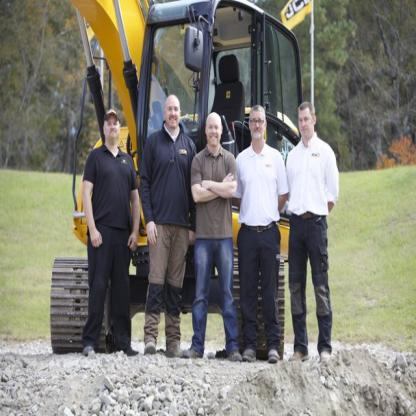person: (75, 99, 132, 364), (285, 81, 339, 359), (139, 71, 191, 358), (237, 89, 289, 365), (190, 90, 242, 364)
